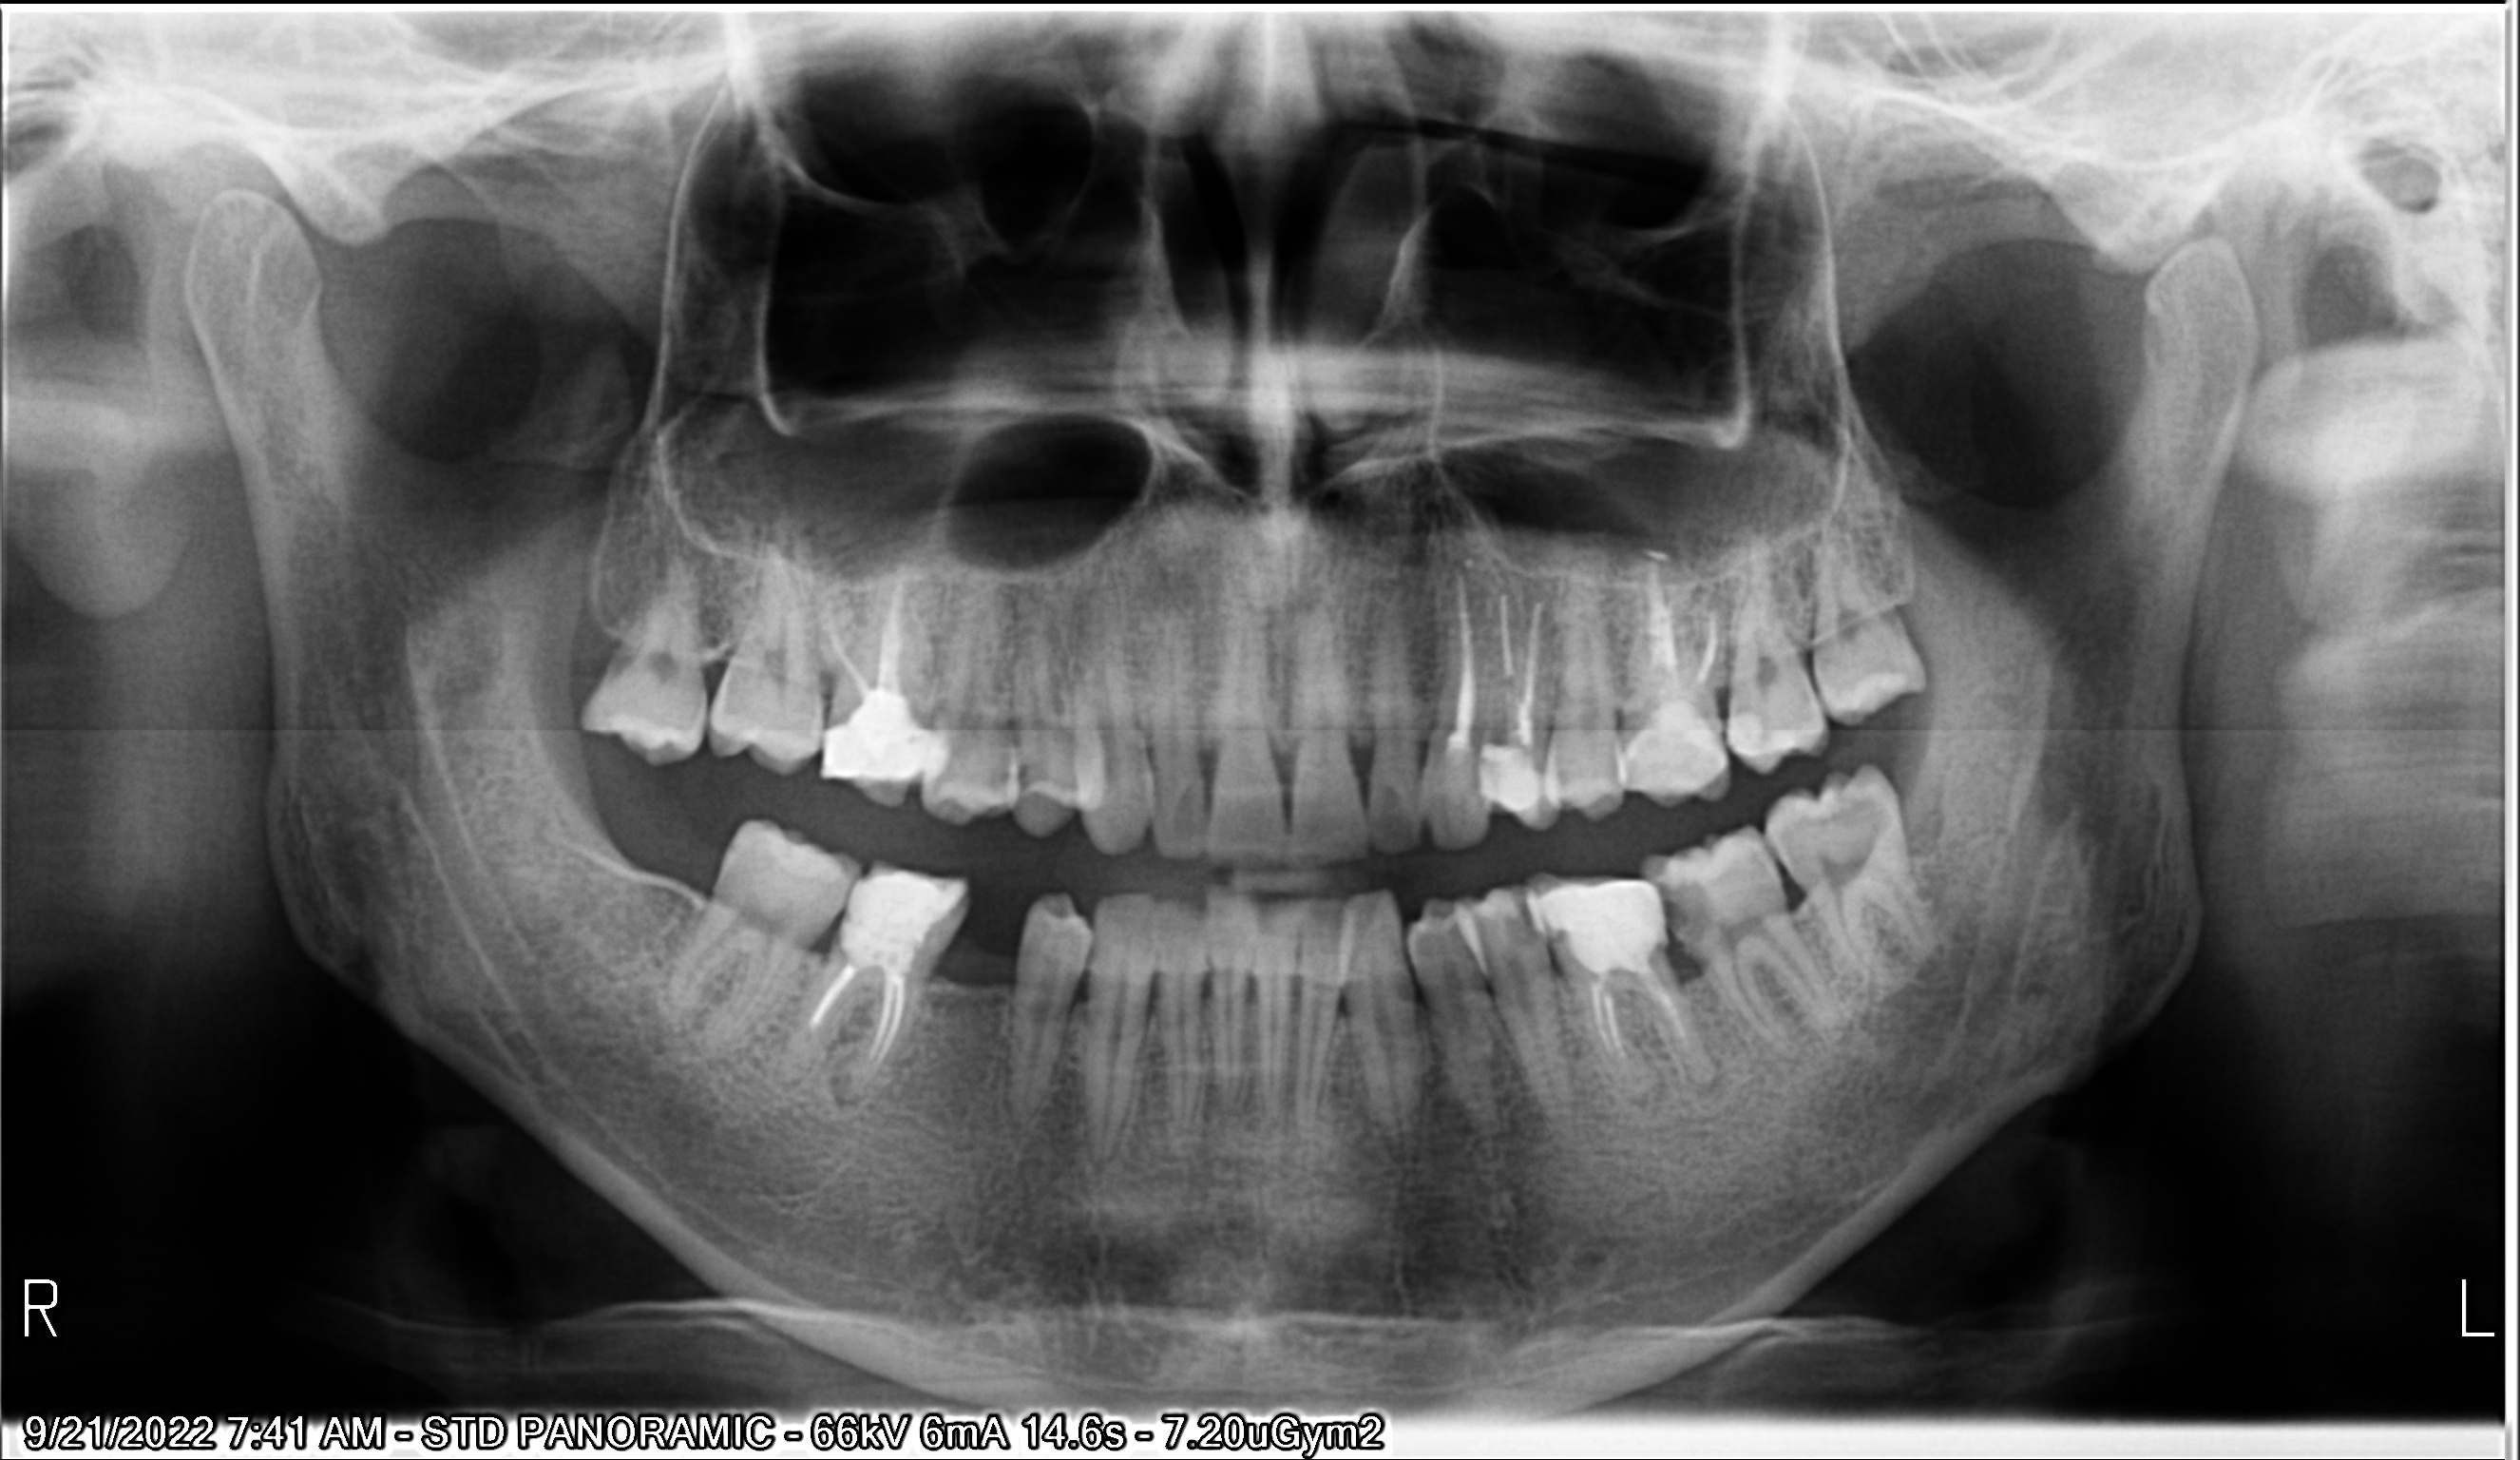API: (830, 1046, 865, 1107)
CAR: (1619, 695, 1662, 756)
END: (828, 577, 901, 697)
OBT: (820, 688, 933, 786)
